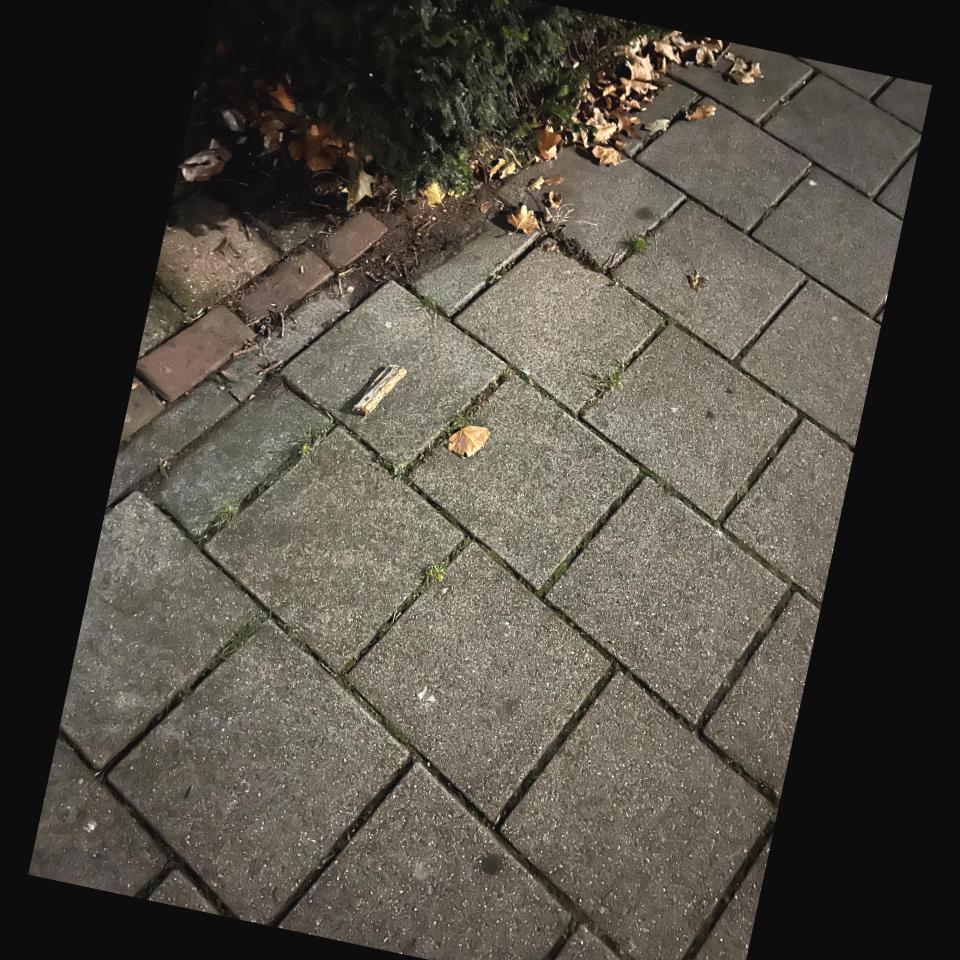weed: (594, 362, 626, 396), (299, 428, 322, 458), (422, 562, 447, 589), (417, 294, 438, 324), (624, 236, 648, 256)
